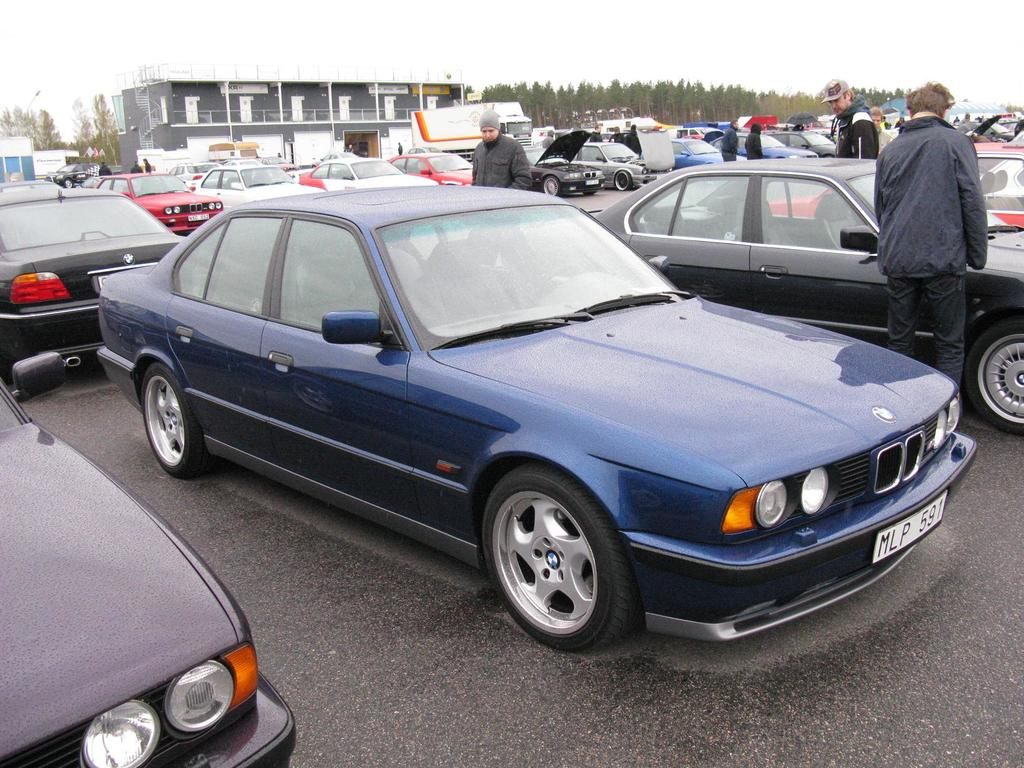Car: (0, 99, 1023, 656), (0, 375, 296, 764)
